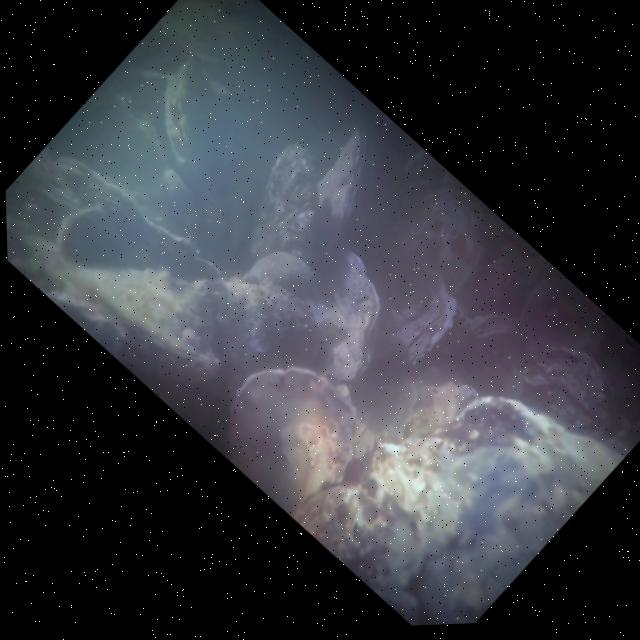Oyster-Closed: (224, 352, 368, 515), (51, 151, 228, 277), (54, 257, 219, 387), (237, 130, 318, 258), (311, 248, 385, 387), (317, 123, 372, 268), (391, 272, 459, 370), (161, 59, 206, 177)
Oyster-Indeterminate: (292, 393, 627, 625), (131, 282, 350, 452), (522, 343, 625, 446), (240, 250, 317, 301), (52, 205, 110, 260), (462, 308, 522, 348)
